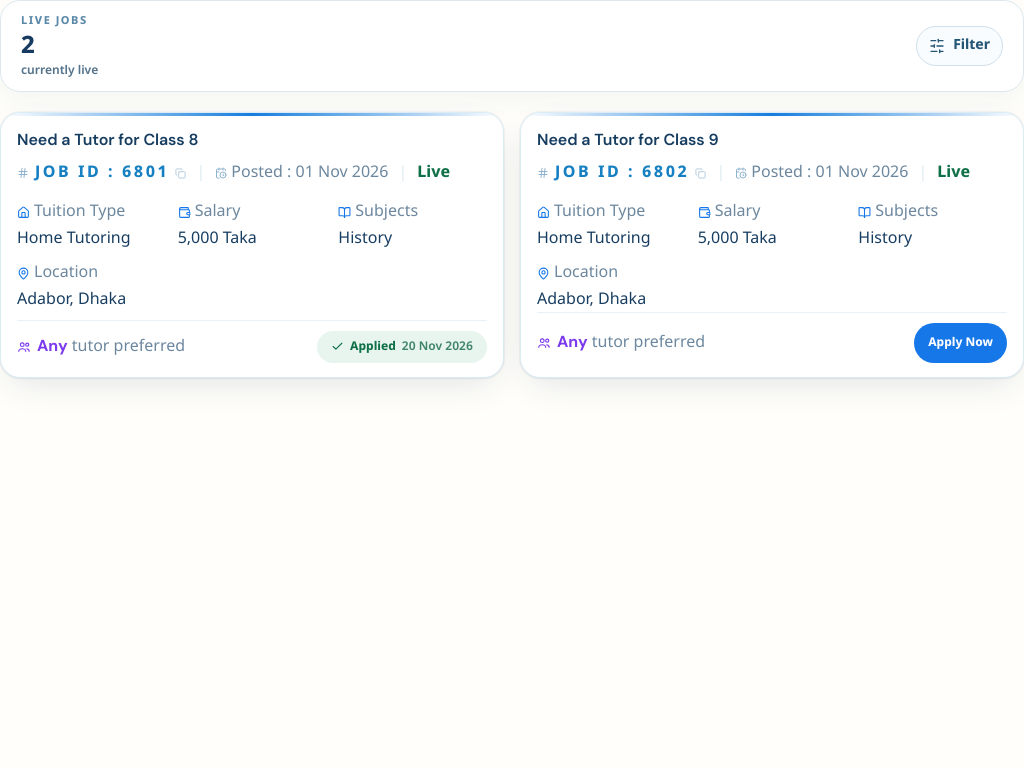
Test: applying from a Job Board card › carries the post-apply reassurance into the details dialog, in the same red as the gender warning
This screenshot has width=1024, height=768.
Click the button with aria-label "Job ID 6801" at (252, 245), box [0,112,504,378]
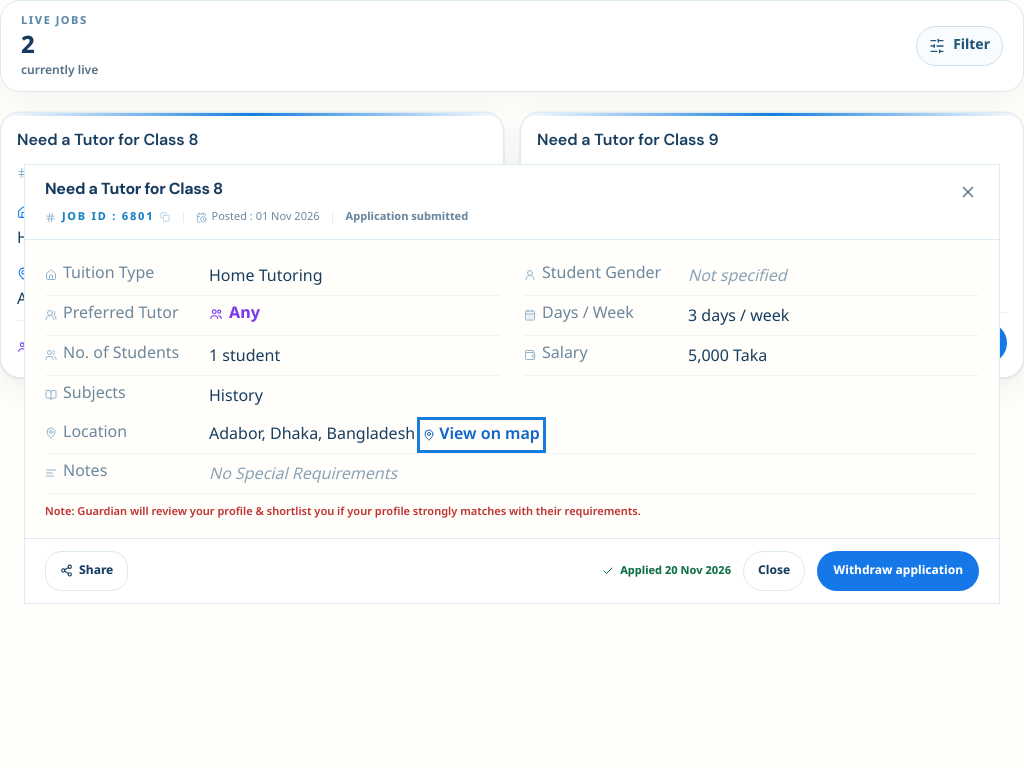
Expected: the text "Guardian will review your profile" shows "Note:", [45,505,77,519]
